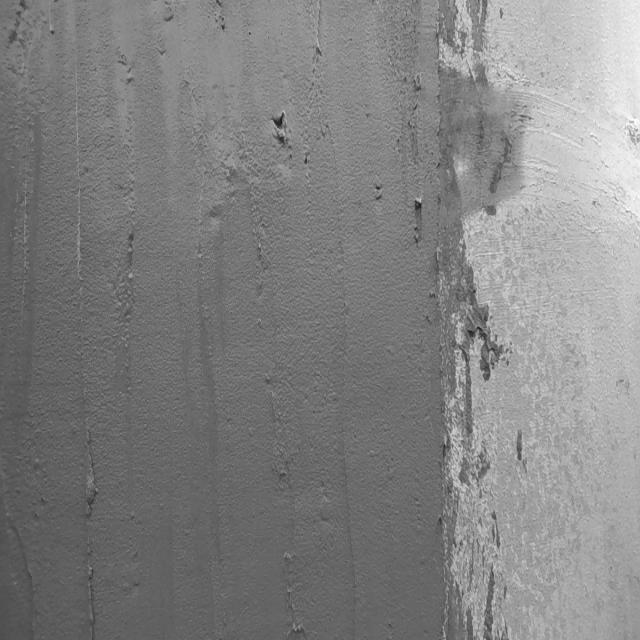trowels marks: (74, 86, 100, 637)
